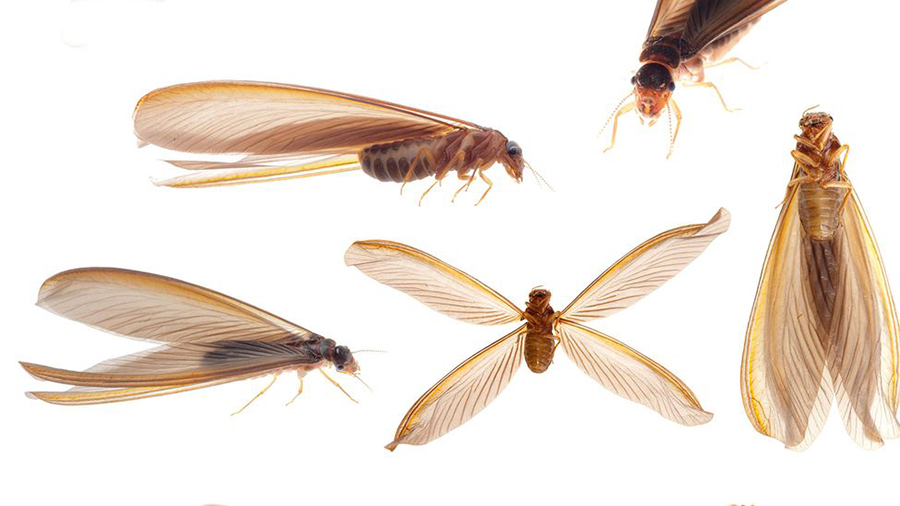flying termite: (338, 221, 738, 455), (11, 245, 384, 442), (109, 52, 561, 214), (742, 98, 900, 473)
